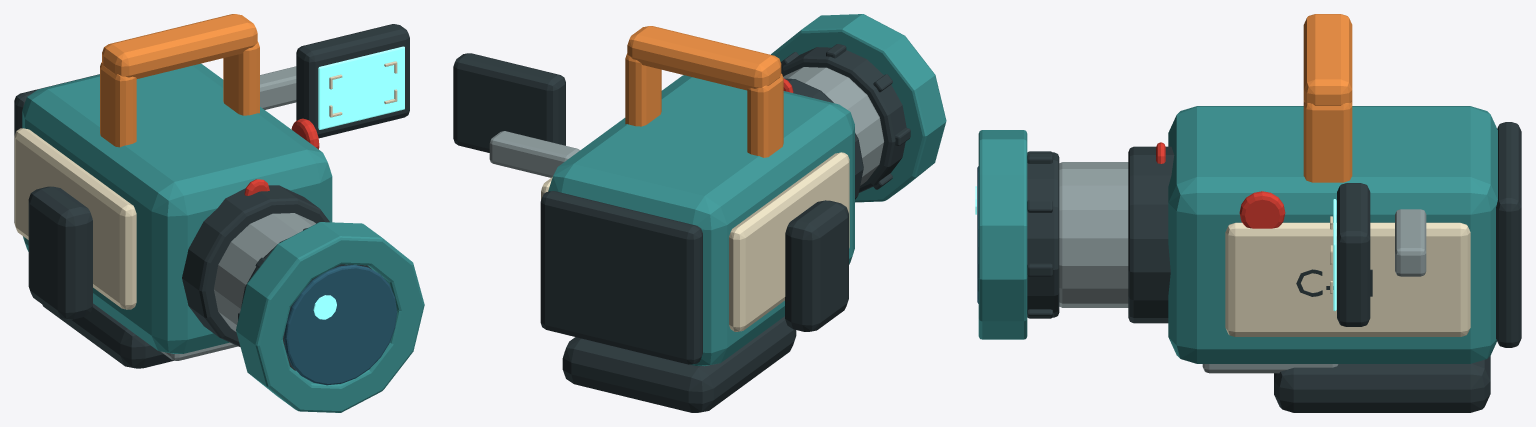
File: camera.glb
3 views of the same model, side by side, from view 1: azimuth 30°, elevation 25°; view 2: azimuth 150°, elevation 25°; view 3: azimuth 270°, elevation 25° (orthographic). The views are drawn at different scales.
Parts seen in each view (by area): view 1: camera_body, camera_lens_hood, camera_lens_glass, camera_left_cheek, camera_grip, camera_lens_mount, camera_carry_handle, camera_monitor_screen, camera_monitor_shell, camera_focus_barrel, camera_shoulder_pad, camera_handle_post (+6 smaller); view 2: camera_body, camera_rear_bumper, camera_shoulder_pad, camera_lens_hood, camera_left_cheek, camera_monitor_shell, camera_grip, camera_carry_handle, camera_focus_grip, camera_focus_barrel, camera_monitor_arm, camera_handle_post (+2 smaller); view 3: camera_body, camera_side_cheek, camera_lens_hood, camera_shoulder_pad, camera_focus_barrel, camera_lens_mount, camera_rear_bumper, camera_monitor_shell, camera_carry_handle, camera_focus_grip, camera_handle_post.001, camera_monitor_arm (+2 smaller).
Boxes of the visible parts, x1=… form: camera_body: x1=22, y1=63, x2=332, y2=353; camera_lens_hood: x1=236, y1=222, x2=424, y2=412; camera_lens_glass: x1=284, y1=264, x2=396, y2=385; camera_left_cheek: x1=14, y1=128, x2=136, y2=309; camera_grip: x1=28, y1=186, x2=92, y2=319; camera_lens_mount: x1=182, y1=185, x2=329, y2=346; camera_carry_handle: x1=102, y1=14, x2=257, y2=78; camera_monitor_screen: x1=318, y1=46, x2=404, y2=129; camera_monitor_shell: x1=296, y1=24, x2=409, y2=138; camera_focus_barrel: x1=214, y1=213, x2=315, y2=331; camera_shoulder_pad: x1=42, y1=303, x2=173, y2=368; camera_handle_post: x1=100, y1=62, x2=136, y2=147; camera_body: x1=548, y1=75, x2=854, y2=366; camera_rear_bumper: x1=540, y1=191, x2=702, y2=364; camera_shoulder_pad: x1=562, y1=316, x2=796, y2=412; camera_lens_hood: x1=771, y1=14, x2=946, y2=202; camera_left_cheek: x1=729, y1=152, x2=849, y2=331; camera_monitor_shell: x1=453, y1=53, x2=565, y2=152; camera_grip: x1=785, y1=200, x2=848, y2=331; camera_carry_handle: x1=627, y1=26, x2=781, y2=90; camera_focus_grip: x1=781, y1=47, x2=906, y2=192; camera_focus_barrel: x1=783, y1=67, x2=883, y2=185; camera_monitor_arm: x1=489, y1=131, x2=580, y2=177; camera_handle_post: x1=747, y1=73, x2=783, y2=157; camera_body: x1=1168, y1=106, x2=1497, y2=363; camera_side_cheek: x1=1225, y1=222, x2=1470, y2=336; camera_lens_hood: x1=978, y1=130, x2=1027, y2=339; camera_shoulder_pad: x1=1274, y1=356, x2=1490, y2=412; camera_focus_barrel: x1=1059, y1=162, x2=1128, y2=307; camera_lens_mount: x1=1128, y1=146, x2=1174, y2=323; camera_rear_bumper: x1=1496, y1=122, x2=1521, y2=347; camera_monitor_shell: x1=1337, y1=183, x2=1370, y2=326; camera_carry_handle: x1=1303, y1=14, x2=1352, y2=105; camera_focus_grip: x1=1027, y1=152, x2=1059, y2=317; camera_handle_post.001: x1=1303, y1=102, x2=1352, y2=182; camera_monitor_arm: x1=1395, y1=209, x2=1426, y2=276.
Size of the model in its own units: 0.8125 by 0.6465 by 0.958.
